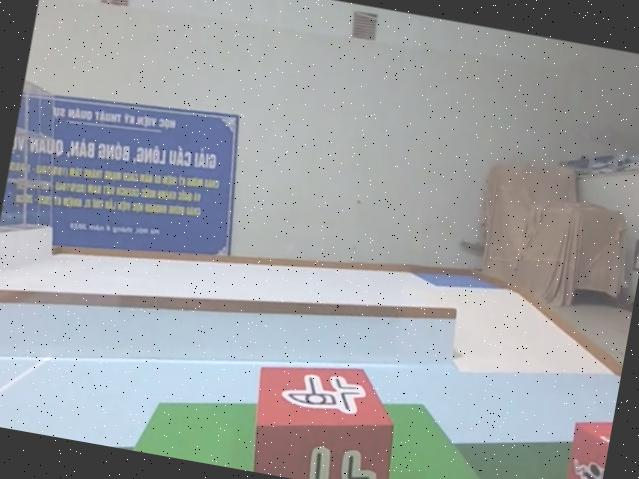R1: (558, 411, 612, 479)
R2 Real: (243, 347, 405, 479)
